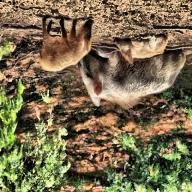boar: (78, 42, 192, 111), (38, 11, 100, 76), (113, 32, 171, 58)
